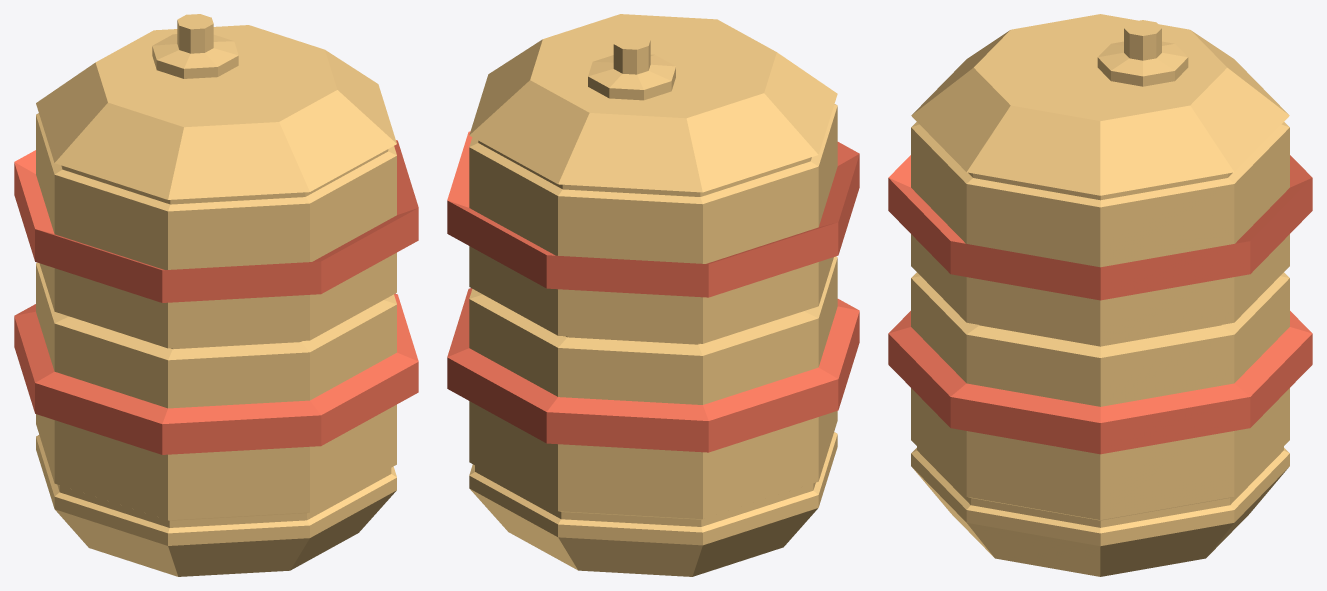
The model's file is Barrel 1.fbx.
The picture shows the model from 3 angles, left to right: view 1: azimuth 30°, elevation 25°; view 2: azimuth 150°, elevation 25°; view 3: azimuth 270°, elevation 25°; orthographic projection.
Parts seen in each view (by area): view 1: Barrel 1; view 2: Barrel 1; view 3: Barrel 1.
Boxes of the visible parts, x1,y1,x2,y2 form: Barrel 1: (14, 14, 418, 576); Barrel 1: (447, 14, 859, 576); Barrel 1: (888, 14, 1312, 576).
Bounding box in the file's own units: 179 × 226 × 179.
